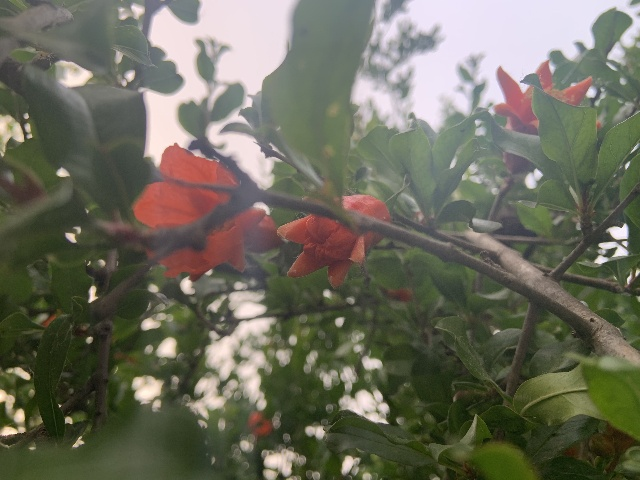flower: (131, 143, 270, 280), (493, 56, 600, 176), (276, 193, 390, 287)
